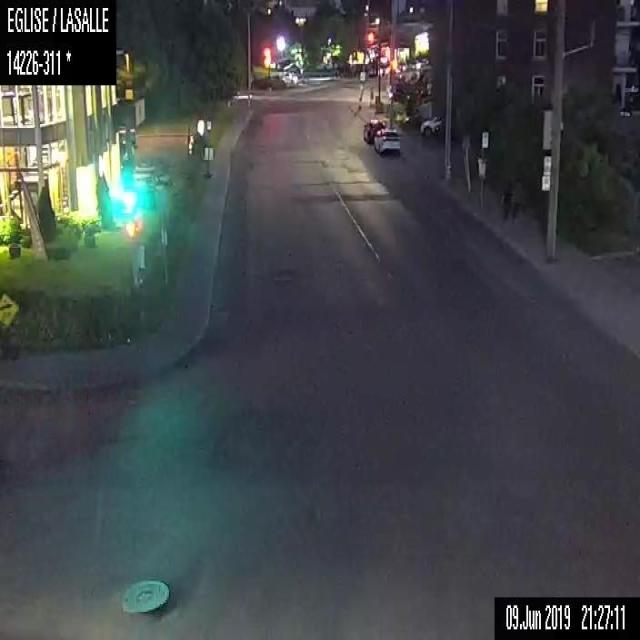pedestrian: (499, 179, 513, 222), (511, 174, 523, 224), (413, 107, 420, 137)
vehicle: (375, 129, 400, 155), (362, 117, 386, 142), (252, 73, 285, 91), (421, 114, 443, 138)
